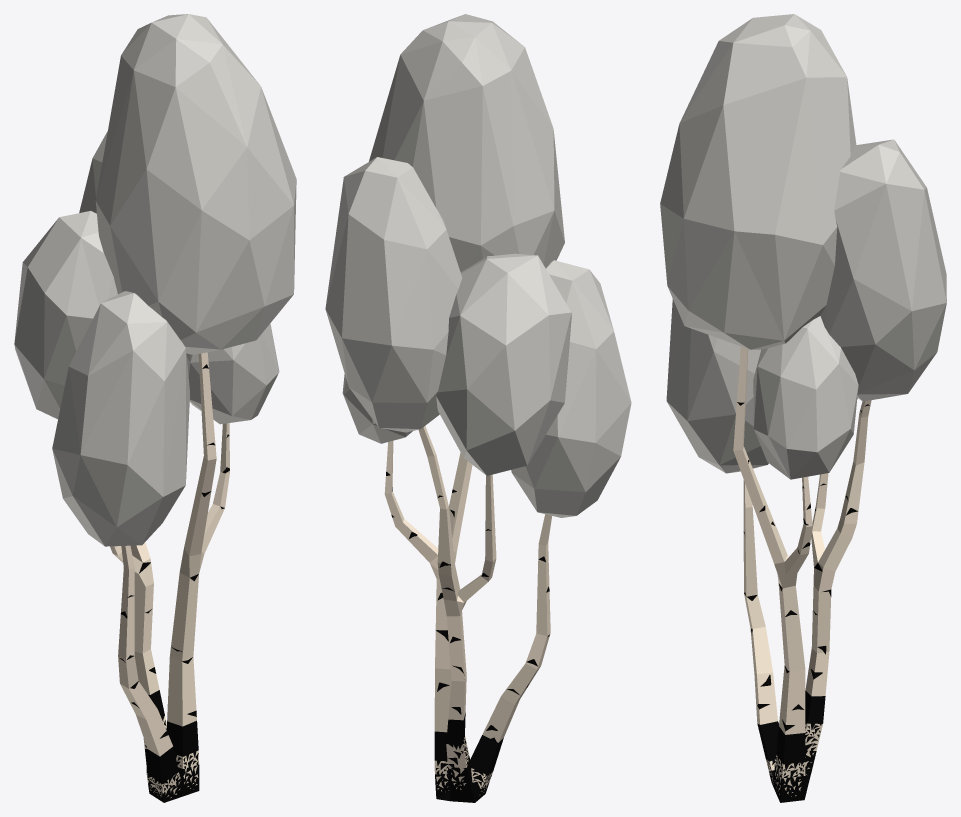
The model's file is Birch_H_flat.glb.
3 renders of one model, left to right at view 1: azimuth 30°, elevation 25°; view 2: azimuth 150°, elevation 25°; view 3: azimuth 270°, elevation 25°, orthographic.
Visible parts, largest first — view 1: Birch hero green f; view 2: Birch hero green f; view 3: Birch hero green f.
Boxes of the visible parts, x1=… form: Birch hero green f: x1=14, y1=14, x2=296, y2=802; Birch hero green f: x1=325, y1=14, x2=631, y2=802; Birch hero green f: x1=660, y1=14, x2=946, y2=802.
Size of the model in its own units: 6.8 by 21.21 by 7.12.
